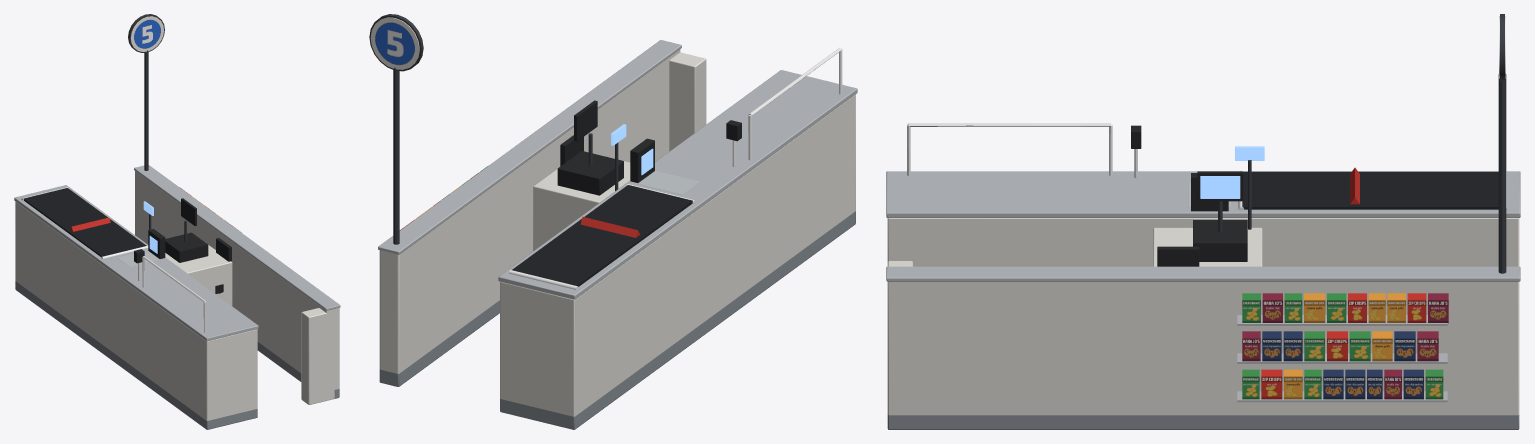
File: checkout_5.glb
3 renders of one model, left to right at view 1: azimuth 30°, elevation 25°; view 2: azimuth 150°, elevation 25°; view 3: azimuth 270°, elevation 25°, orthographic. The views are drawn at different scales.
Parts seen in each view (by area): view 1: checkout_5; view 2: checkout_5; view 3: checkout_5.
Boxes of the visible parts, x1,y1,x2,y2 form: checkout_5: (14, 14, 340, 429); checkout_5: (369, 14, 857, 429); checkout_5: (886, 14, 1520, 429).
Size of the model in its own units: 6.53 by 10.7 by 15.06.
Materials: 12 (2 with a texture image).
